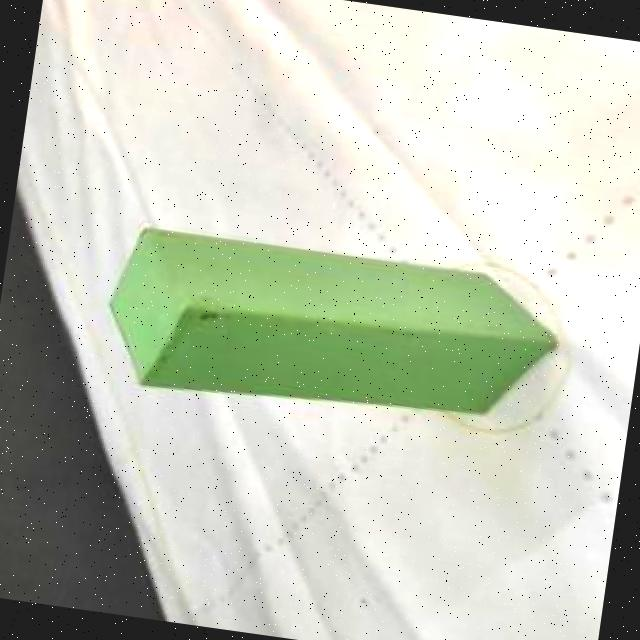greenbox: (90, 218, 566, 448)
